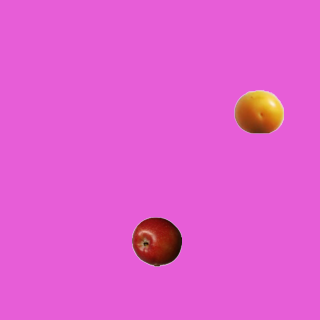Apple Braeburn: (131, 216, 181, 266)
Cherry Wax Yellow: (233, 86, 283, 136)
